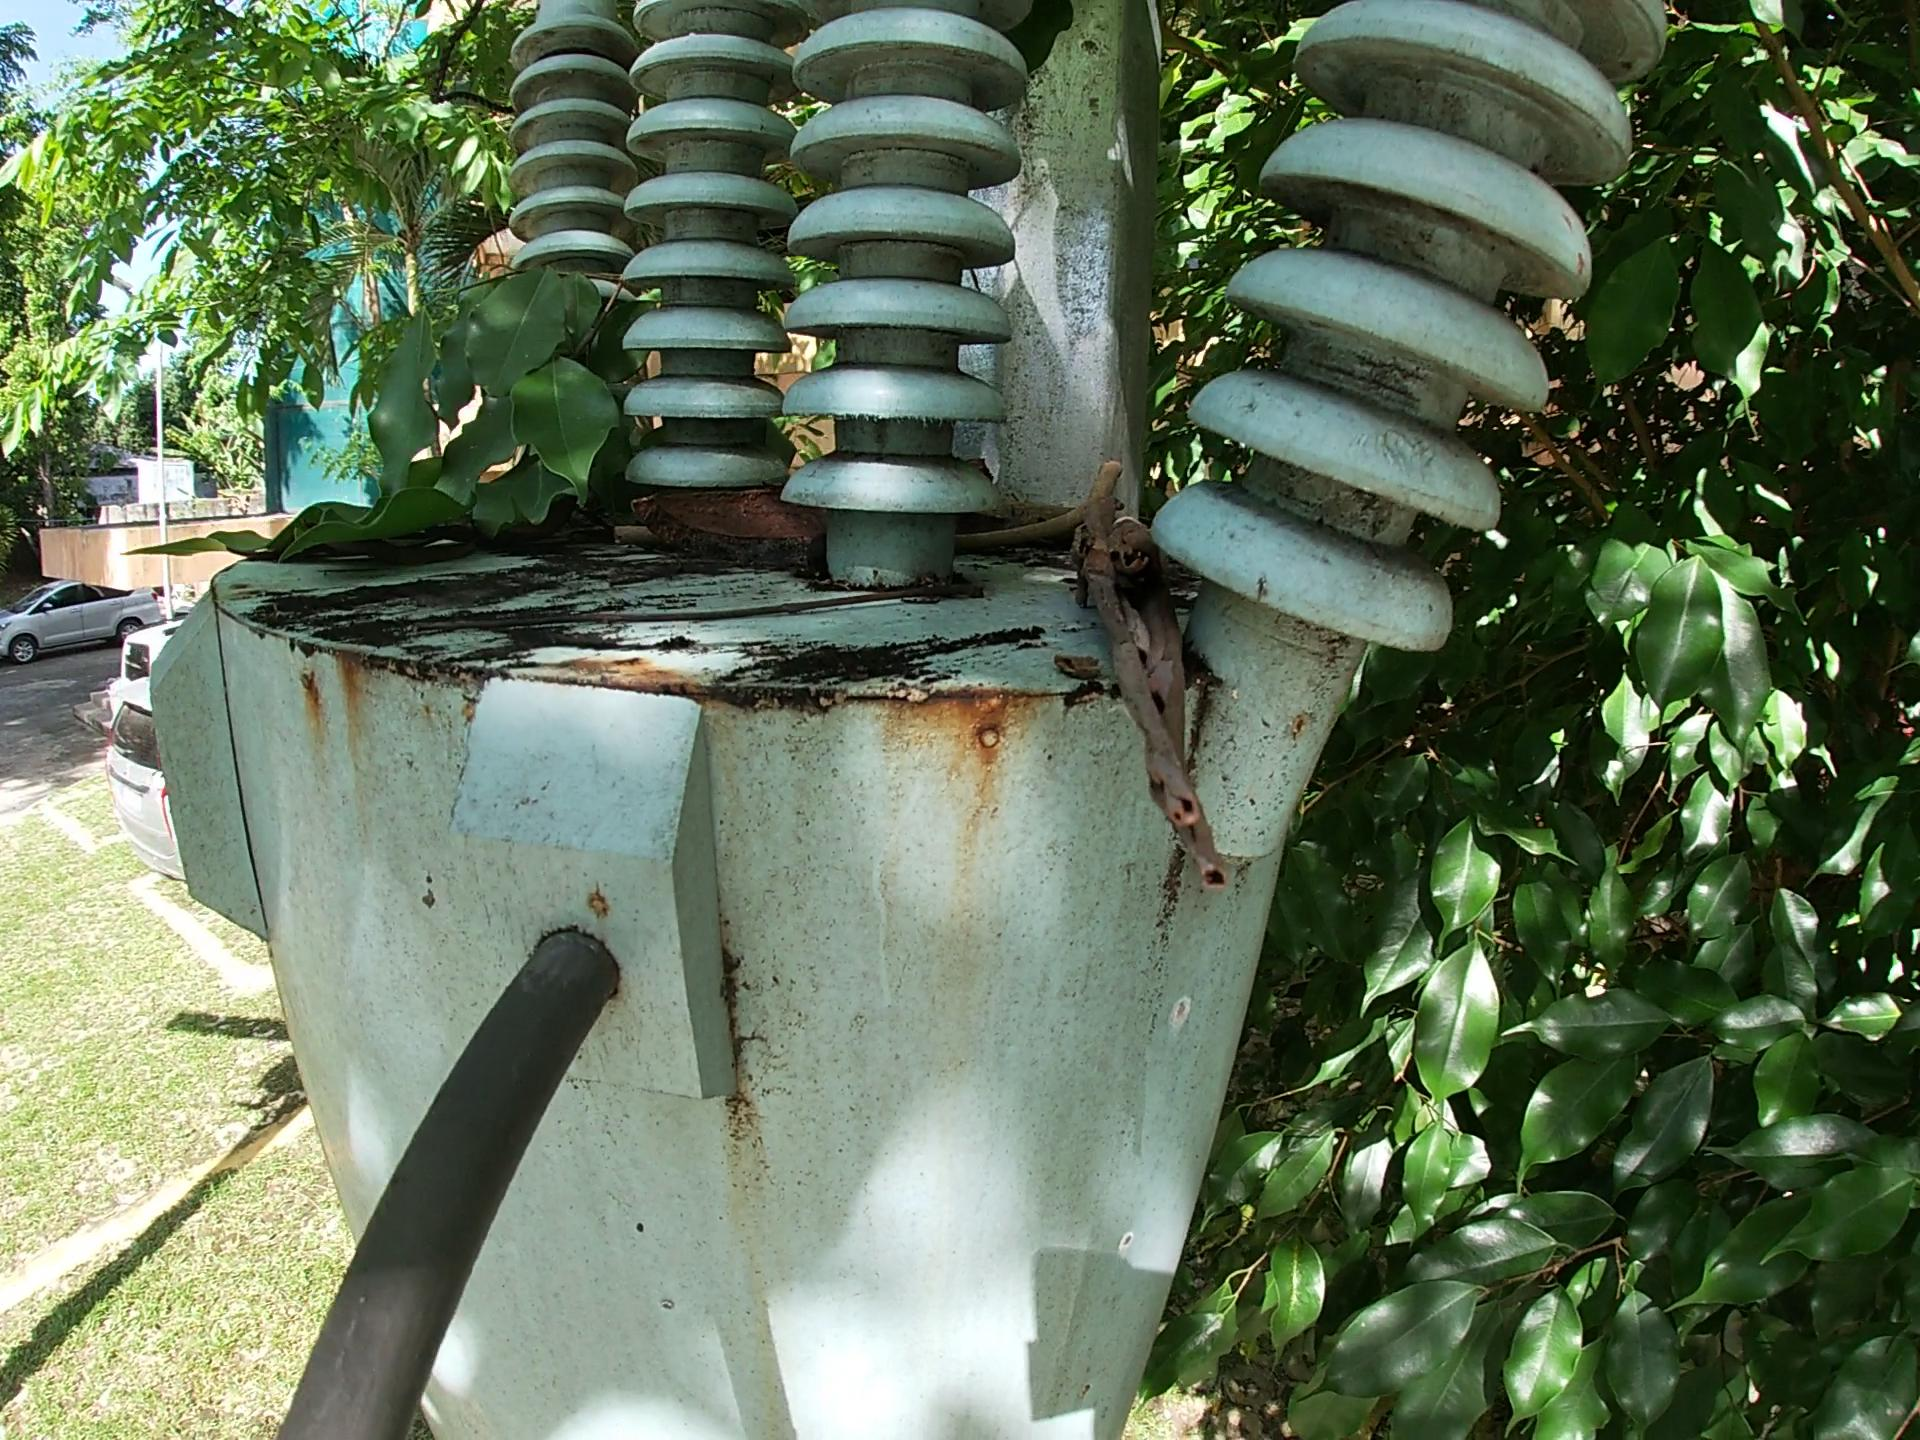branch with leaves: (67, 259, 632, 629)
mahogany fruit: (632, 475, 841, 551)
tree branch: (1070, 492, 1247, 914), (945, 470, 1138, 564), (943, 496, 1101, 543), (602, 517, 664, 546)
